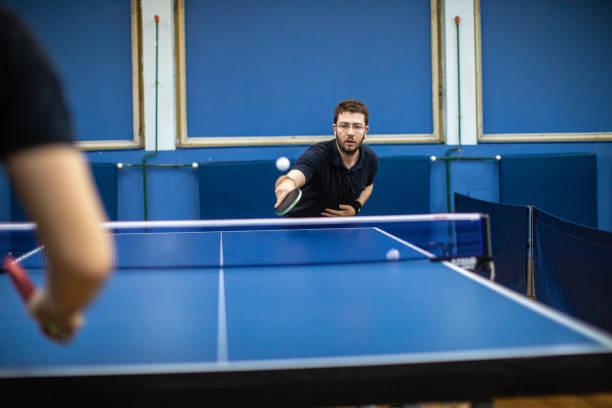ball_pingpong: (275, 156, 292, 170), (387, 249, 400, 258), (193, 162, 201, 168), (496, 154, 504, 159), (431, 154, 437, 159), (118, 162, 123, 167)
